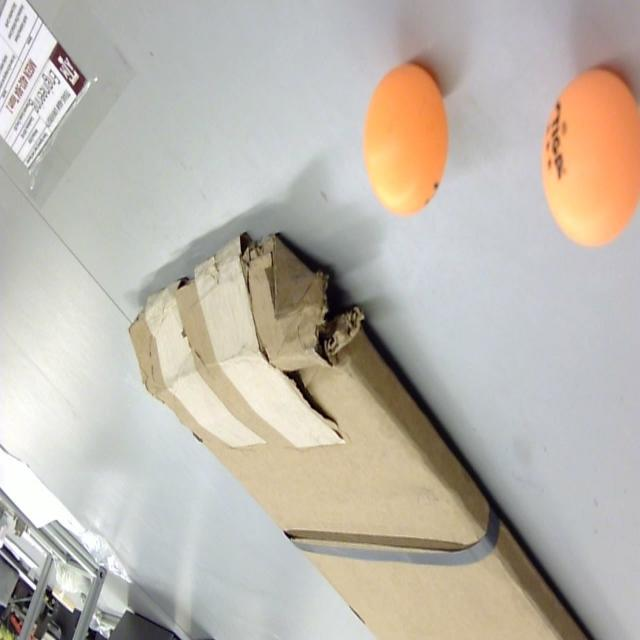ball: (540, 66, 640, 252), (362, 63, 450, 220)
